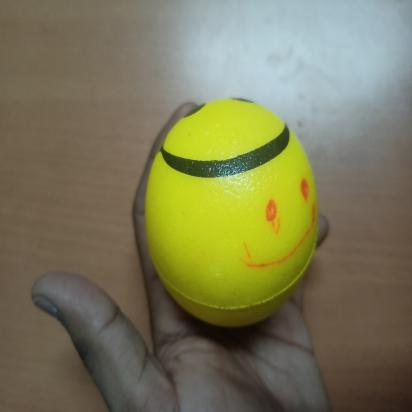Yellowball: (142, 95, 322, 333)
